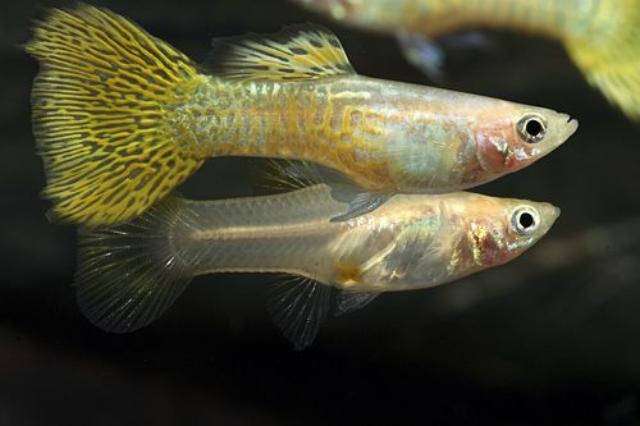Mulut: (506, 181, 580, 257), (535, 95, 599, 153)
Sirip Anal: (250, 260, 334, 368), (270, 150, 358, 198)
Sirip Dada: (371, 100, 464, 200)
Sirip Ekor: (12, 1, 216, 244), (55, 186, 211, 346)
Sirip Perut: (327, 170, 405, 232), (322, 271, 394, 325)
Sirip Punggung: (186, 14, 370, 94)
